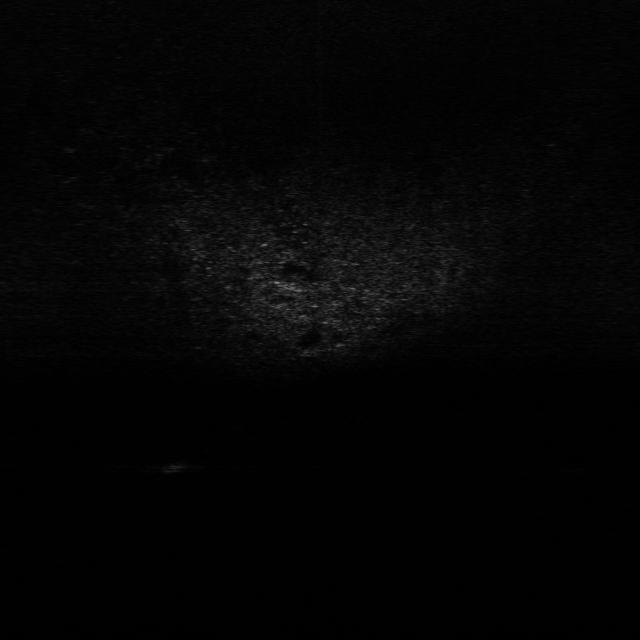cylinder: (160, 456, 200, 476)
